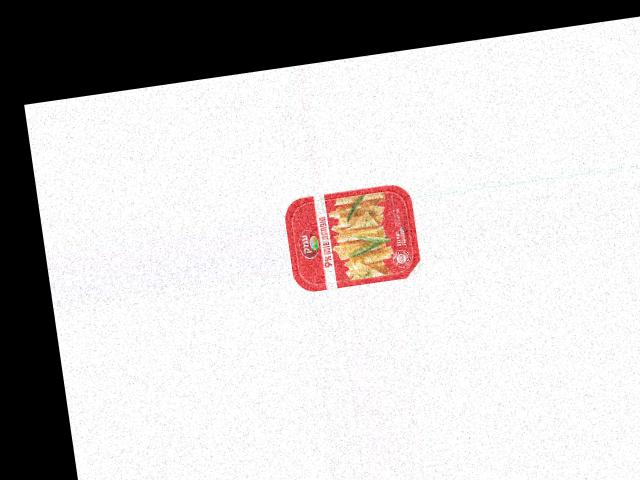cheese: (281, 181, 423, 293)
